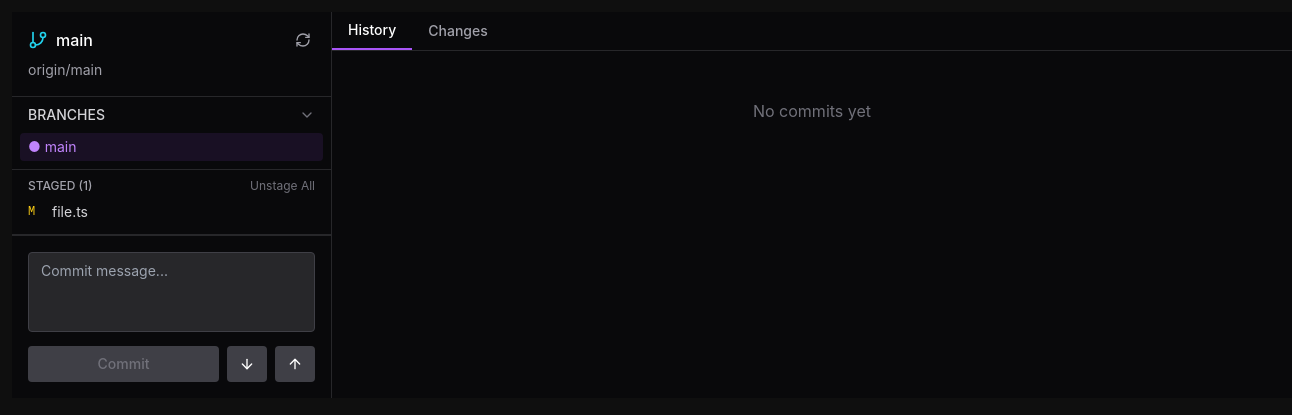
Scenario: GitPanel › Commit Functionality › should enable commit button when message is entered and files are staged
Expected: the text "file.ts" is shown, top-left (52, 202), bottom-right (88, 222)
In the text box with placeholder "Commit message...": x=172, y=292 top-left (28, 252), bottom-right (315, 332), type "Fix bug"
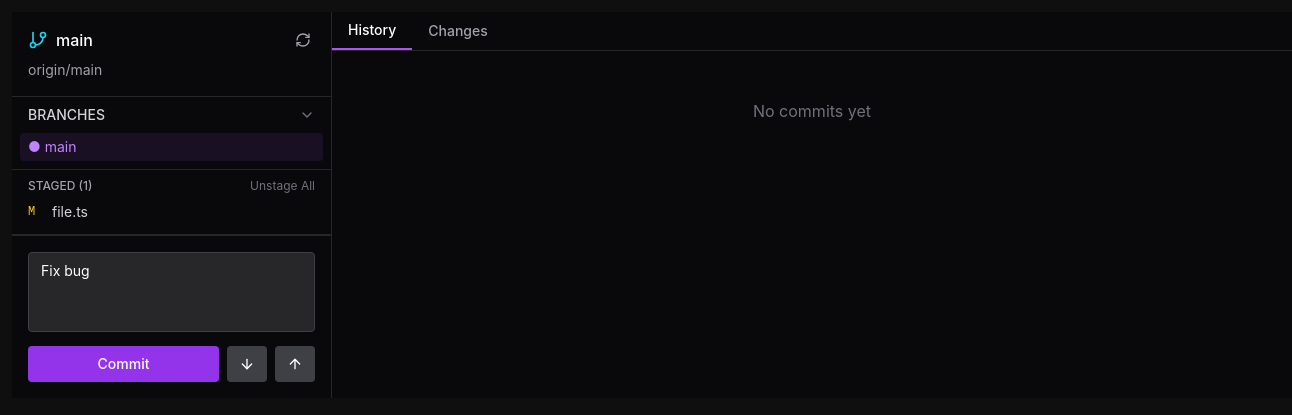
Expected: the button "Commit" is enabled, top-left (28, 346), bottom-right (219, 382)
